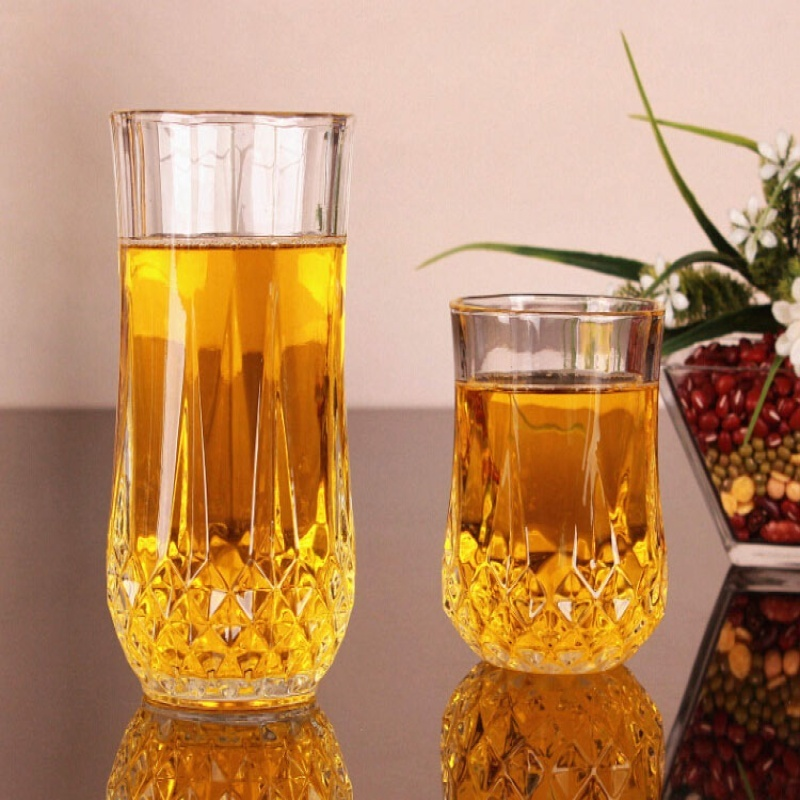whiskey: (93, 98, 376, 710), (447, 283, 676, 671)
